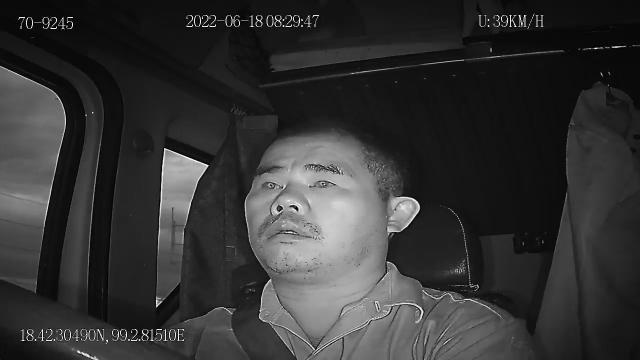SafeDriving: (300, 166, 346, 196), (253, 171, 289, 198)
Seatbelt: (226, 294, 302, 360)
